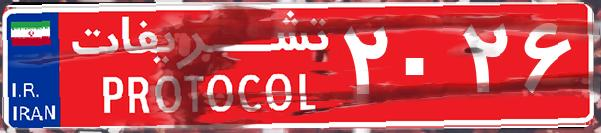0: (400, 20, 460, 115)
2: (340, 20, 400, 115), (460, 20, 520, 115)
6: (520, 20, 580, 115)
تشریفات: (60, 8, 340, 125)
